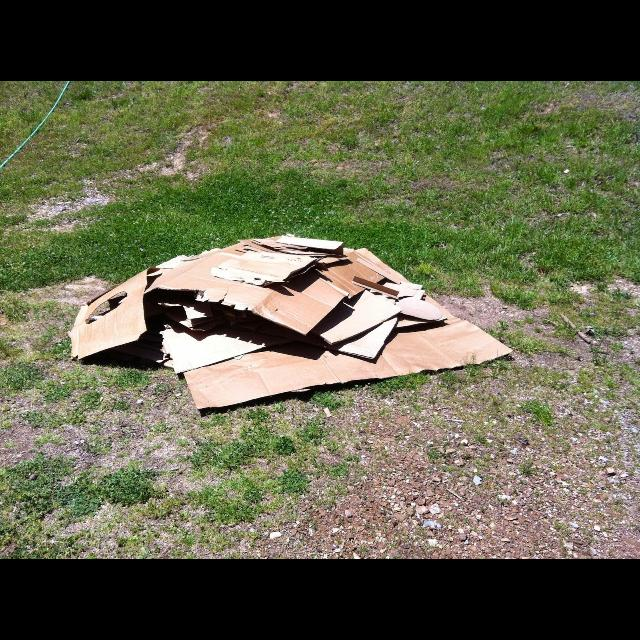papelão: (72, 232, 512, 412)
